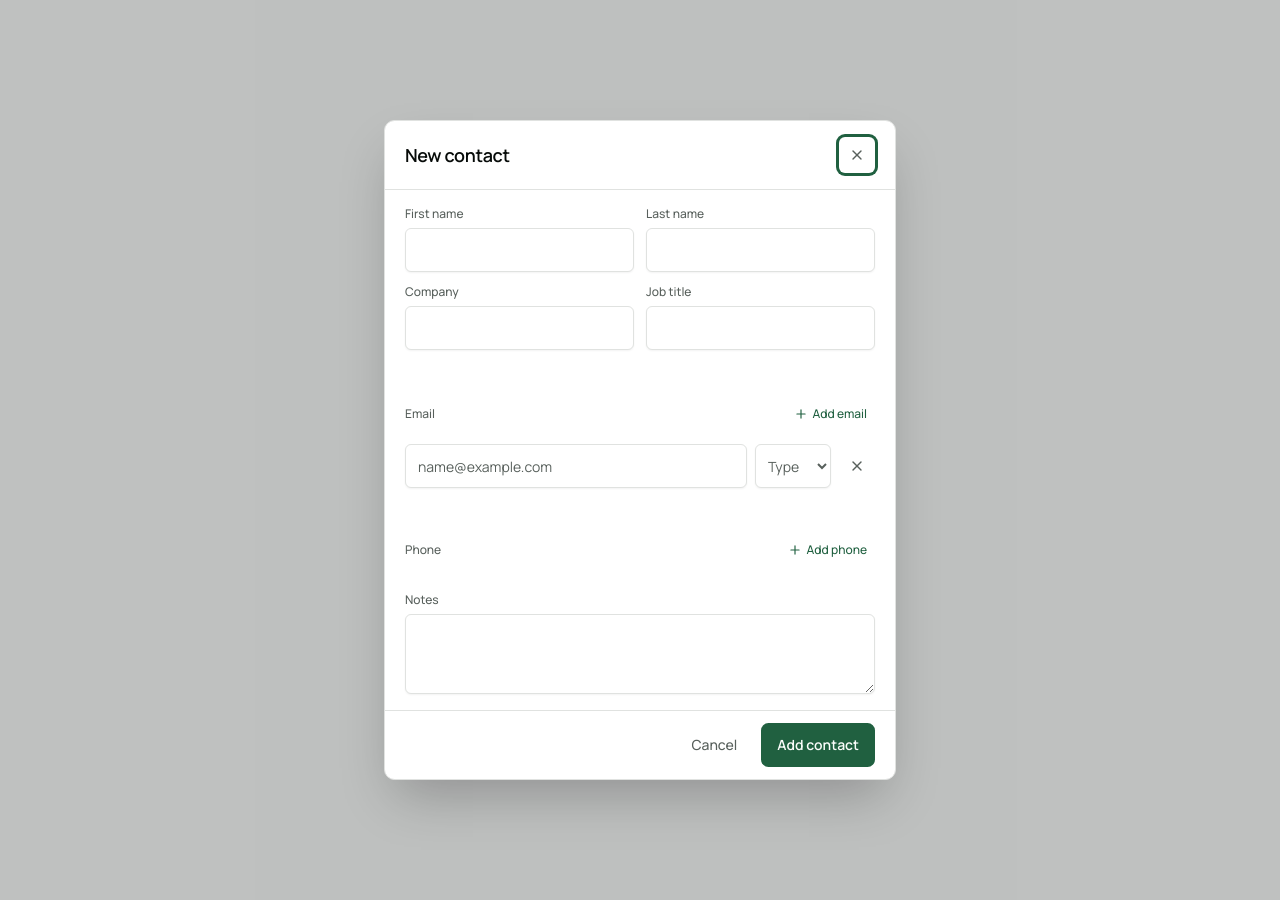
ContactModal — create › shows a generic message when the failure is not an Error
This screenshot has width=1280, height=900.
In the field named "Email 1": point(576, 466) [405, 444, 747, 488], type "grace@x.com"
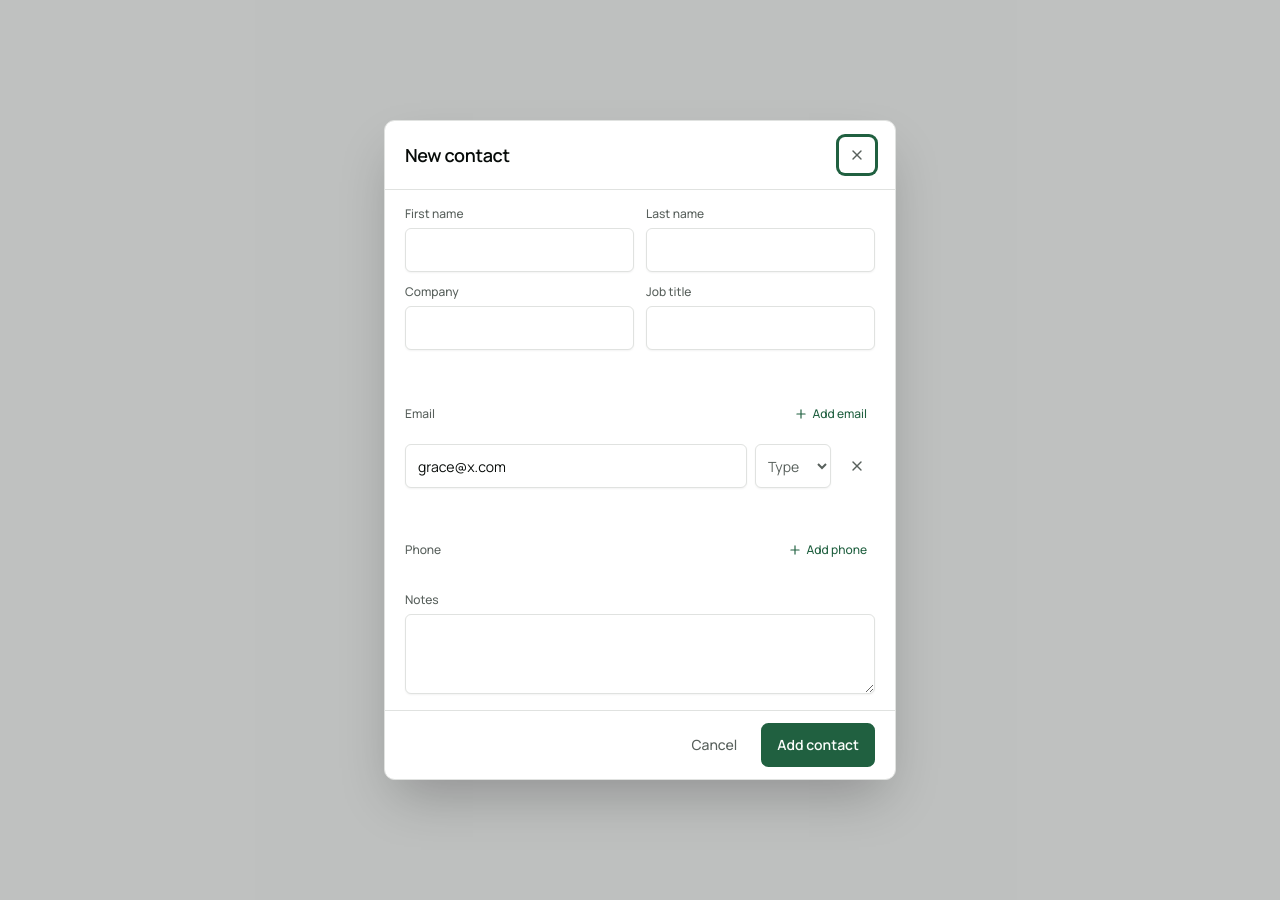
Click the button "Add contact": point(818, 745) [761, 723, 875, 767]
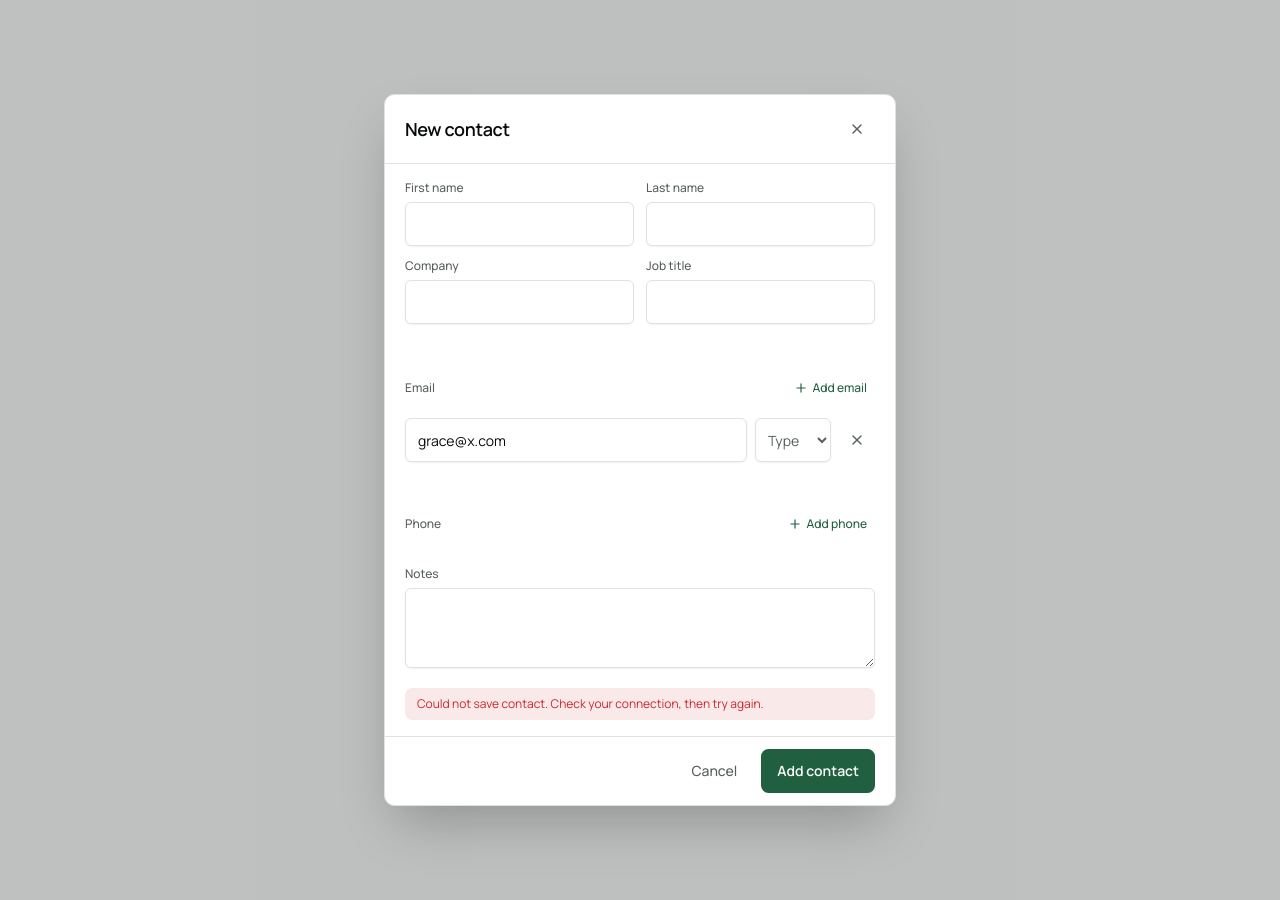
Expected: the text "Could not save contact. Check your connection, then try again." is shown, [405, 688, 875, 720]
